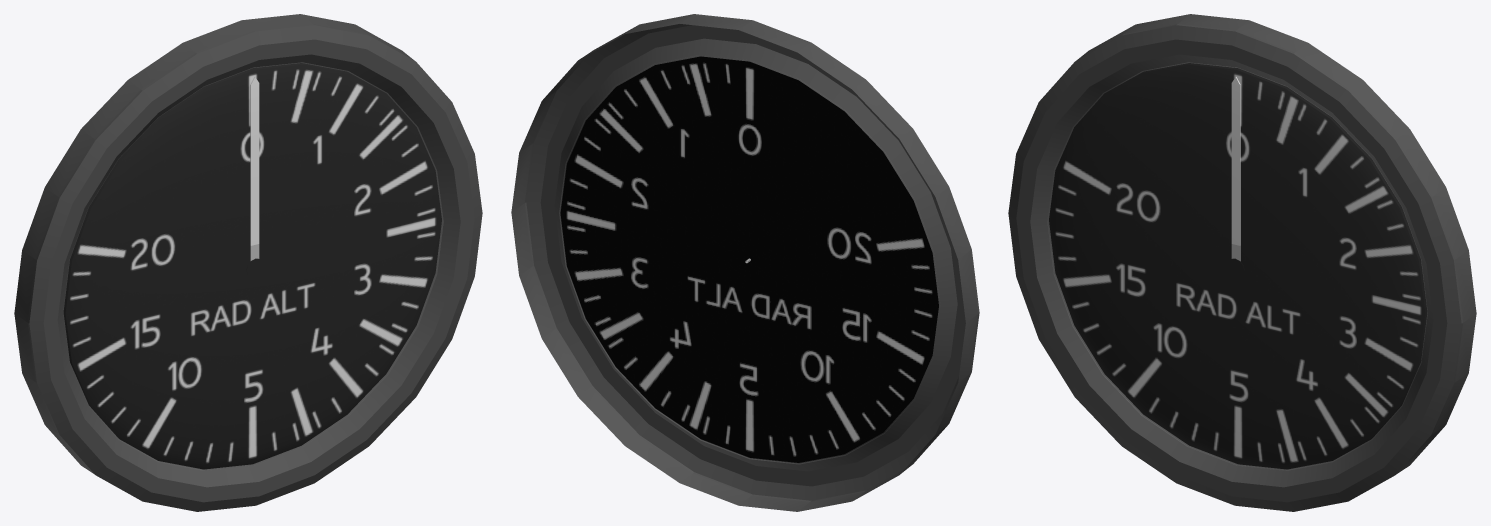
Rendered from Gauge_RadAlt.obj.
The picture shows the model from 3 angles, left to right: view 1: azimuth 30°, elevation 25°; view 2: azimuth 150°, elevation 25°; view 3: azimuth 330°, elevation 25°; orthographic projection.
Visible parts, largest first — view 1: Lens, Face, Rim, NeedleMain; view 2: Face, Rim; view 3: Lens, Face, Rim, NeedleMain.
Boxes of the visible parts, box(x1,y1,x2,y2) form: Lens: box(63, 63, 443, 470); Face: box(63, 63, 441, 469); Rim: box(14, 14, 482, 511); NeedleMain: box(250, 77, 259, 245); Face: box(560, 56, 938, 462); Rim: box(511, 14, 979, 511); Lens: box(1047, 63, 1427, 470); Face: box(1049, 63, 1427, 469); Rim: box(1008, 14, 1476, 511); NeedleMain: box(1231, 77, 1240, 245).
Bounding box in the file's own units: 0.0822 × 0.0822 × 0.00794.
